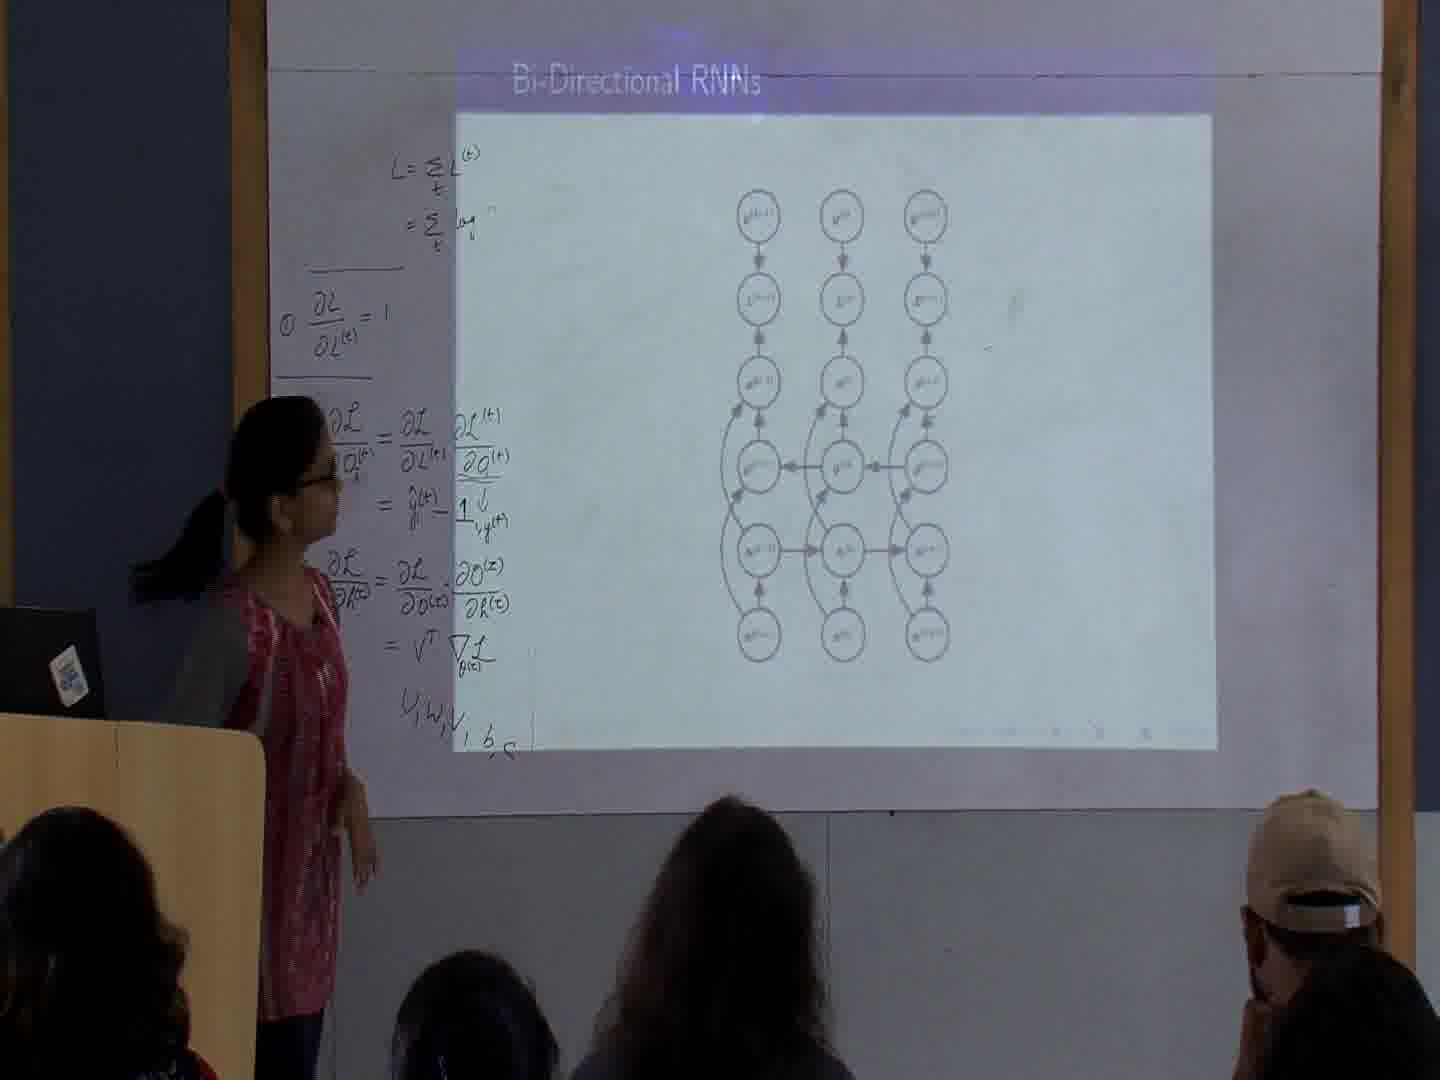slide: (457, 50, 1219, 750)
